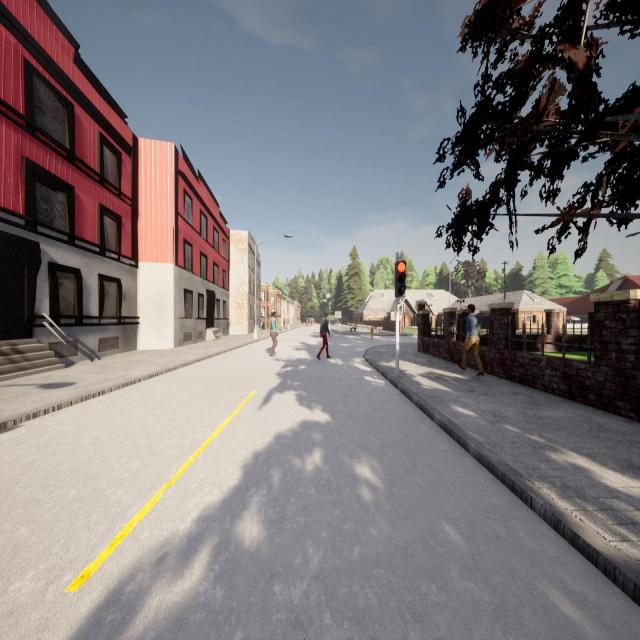Pedestrian: (458, 304, 484, 375), (316, 311, 332, 360), (270, 311, 278, 356), (370, 323, 374, 342)
Vehicle: (306, 317, 314, 326)
traffic_light: (395, 260, 406, 298)
